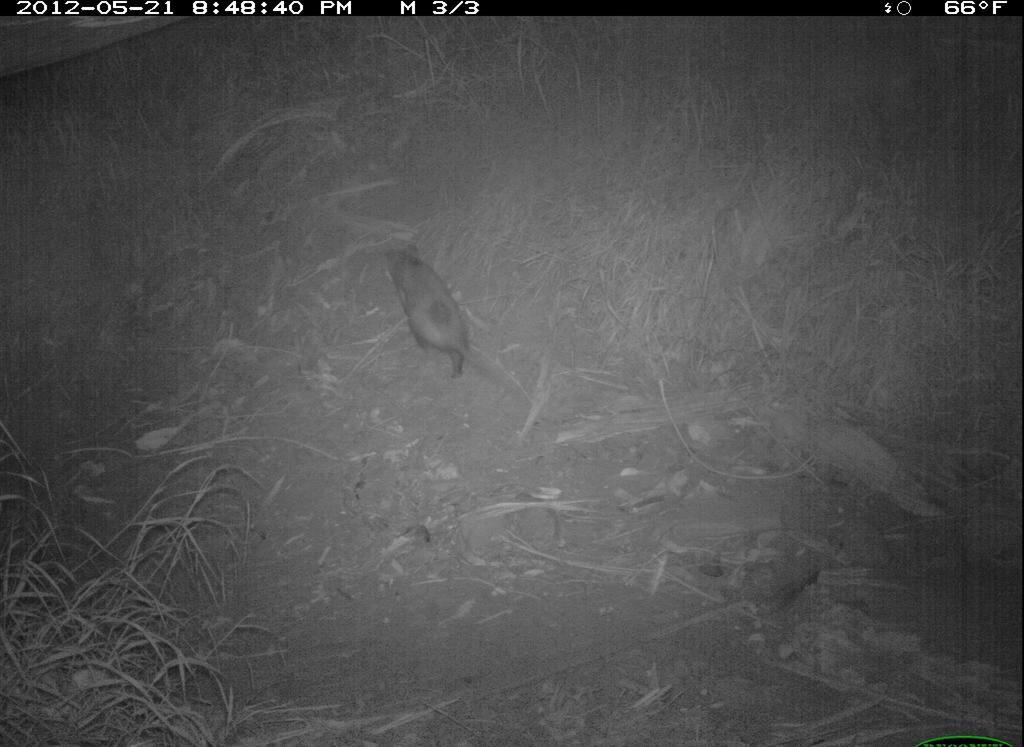opossum: (373, 233, 518, 429)
